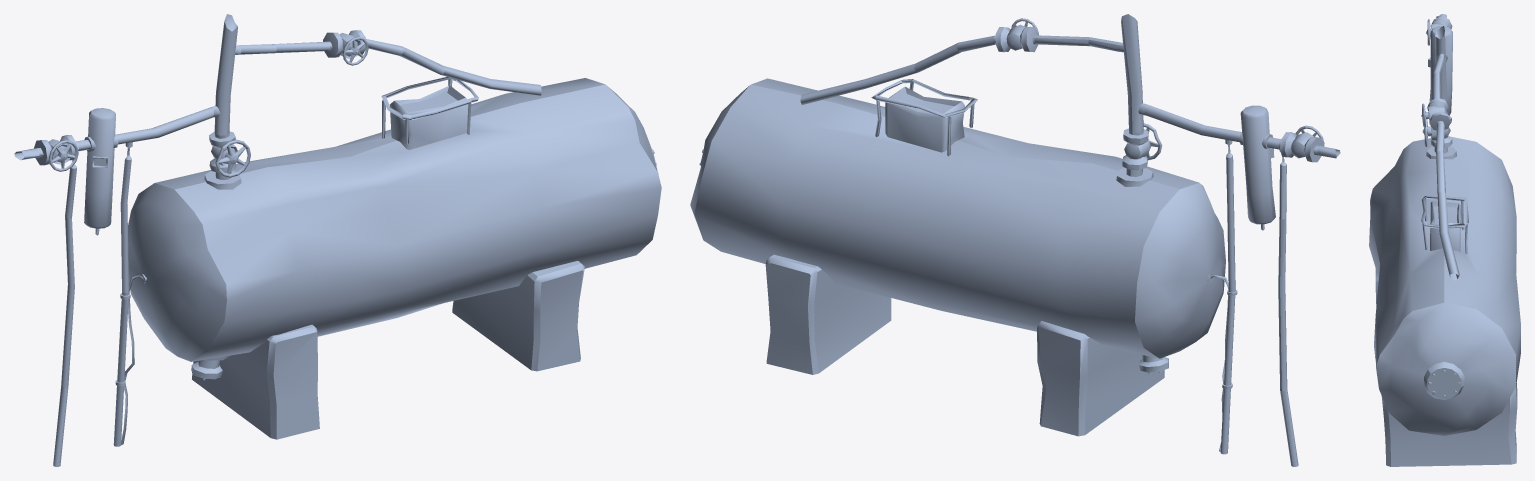
The model's file is tankcapacity2.fbx.
3 views of the same model, side by side, from view 1: azimuth 30°, elevation 25°; view 2: azimuth 150°, elevation 25°; view 3: azimuth 270°, elevation 25° (orthographic). The views are drawn at different scales.
Parts seen in each view (by area): view 1: tank; view 2: tank; view 3: tank.
Boxes of the visible parts, bbox=[...] form: tank: bbox=[14, 14, 661, 466]; tank: bbox=[690, 14, 1340, 466]; tank: bbox=[1369, 14, 1520, 466].
Size of the model in its own units: 753 by 469 by 197.
